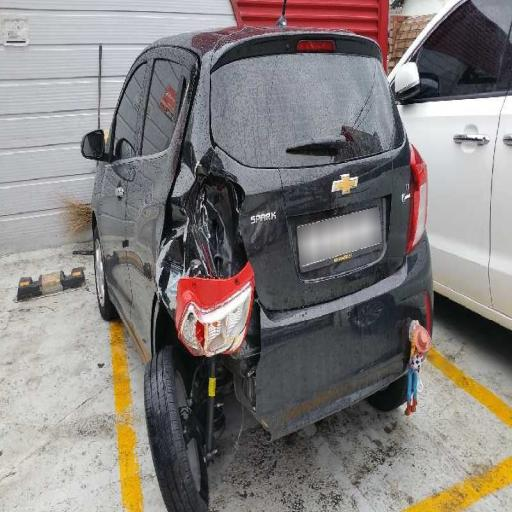broken: (139, 116, 294, 467)
